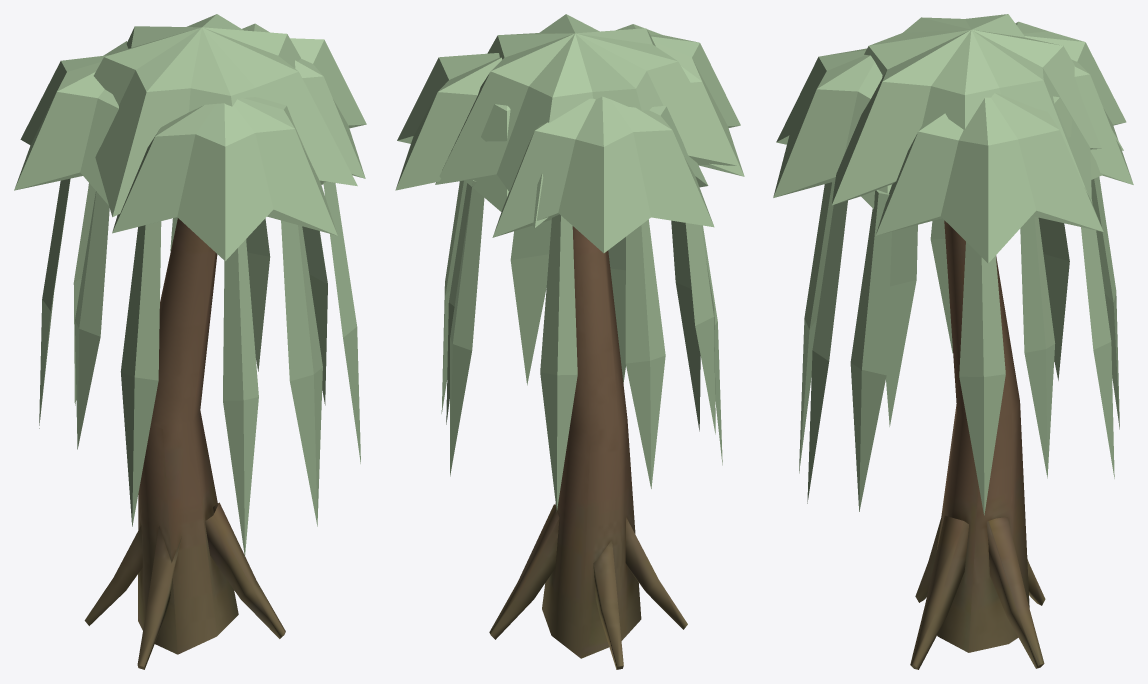
The model's file is arv_salgueiro_1.glb.
3 renders of one model, left to right at view 1: azimuth 30°, elevation 25°; view 2: azimuth 150°, elevation 25°; view 3: azimuth 270°, elevation 25°, orthographic. The views are drawn at different scales.
Parts seen in each view (by area): view 1: arv_salgueiro_1_corpo; view 2: arv_salgueiro_1_corpo; view 3: arv_salgueiro_1_corpo.
Part boxes in pixels (<box>): arv_salgueiro_1_corpo: <box>14,14,366,669</box>; arv_salgueiro_1_corpo: <box>395,14,744,669</box>; arv_salgueiro_1_corpo: <box>773,14,1133,669</box>.
Size of the model in its own units: 0.8617 by 1.48 by 0.7824.
2 materials, 1 textured.
